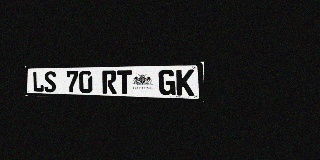plate: (25, 62, 204, 102)
